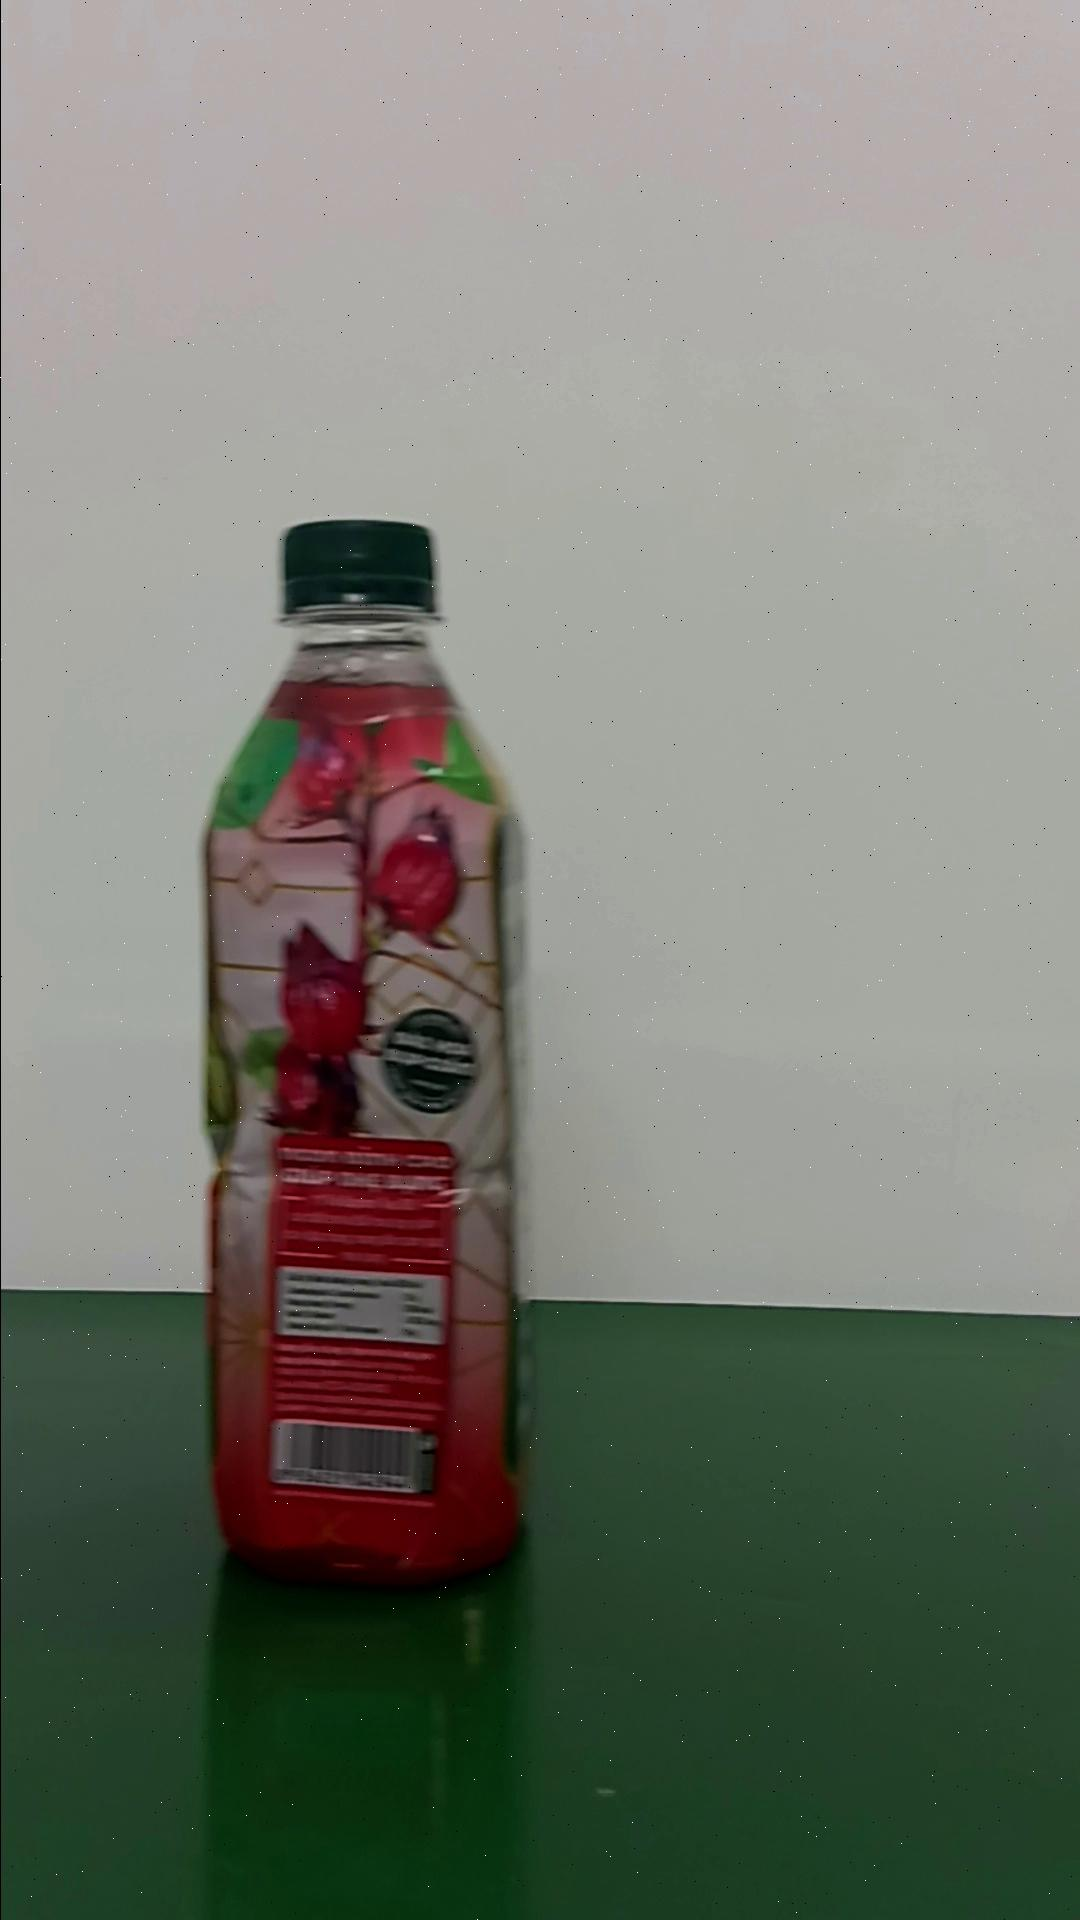loi meo sp: (198, 516, 527, 1588)
